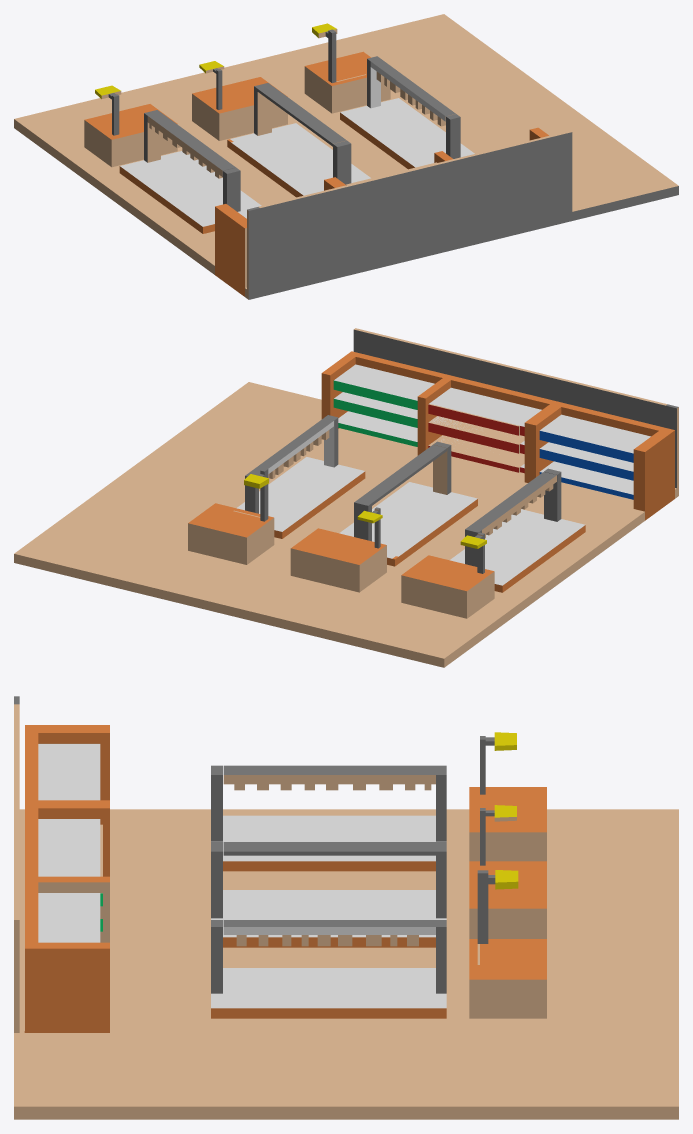
File: Study Area.fbx
3 views of the same model, one above another, from view 1: azimuth 30°, elevation 25°; view 2: azimuth 150°, elevation 25°; view 3: azimuth 270°, elevation 25° (orthographic). The views are drawn at different scales.
Parts seen in each view (by area): view 1: Cube.002; view 2: Cube.002; view 3: Cube.002.
Boxes of the visible parts, bbox=[...] form: Cube.002: bbox=[14, 14, 678, 299]; Cube.002: bbox=[14, 328, 678, 667]; Cube.002: bbox=[14, 696, 678, 1119].
Bounding box in the file's own units: 9675 × 1912 × 9147.
